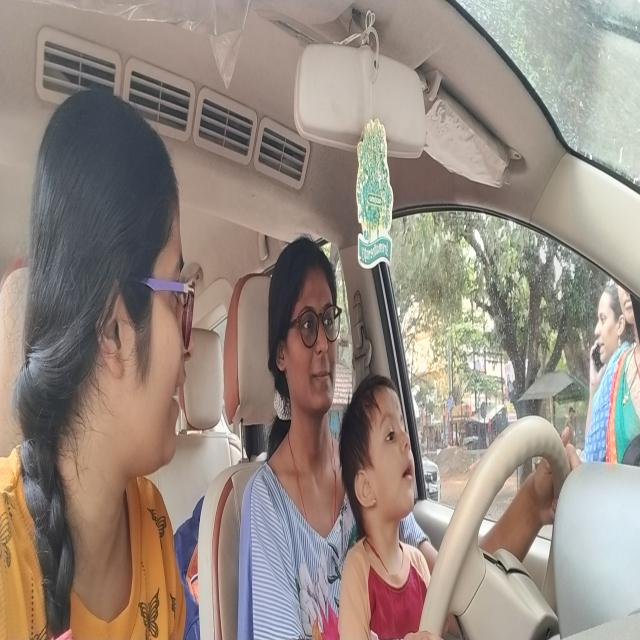child: (339, 370, 419, 532)
person: (28, 84, 203, 517), (266, 238, 342, 426)
